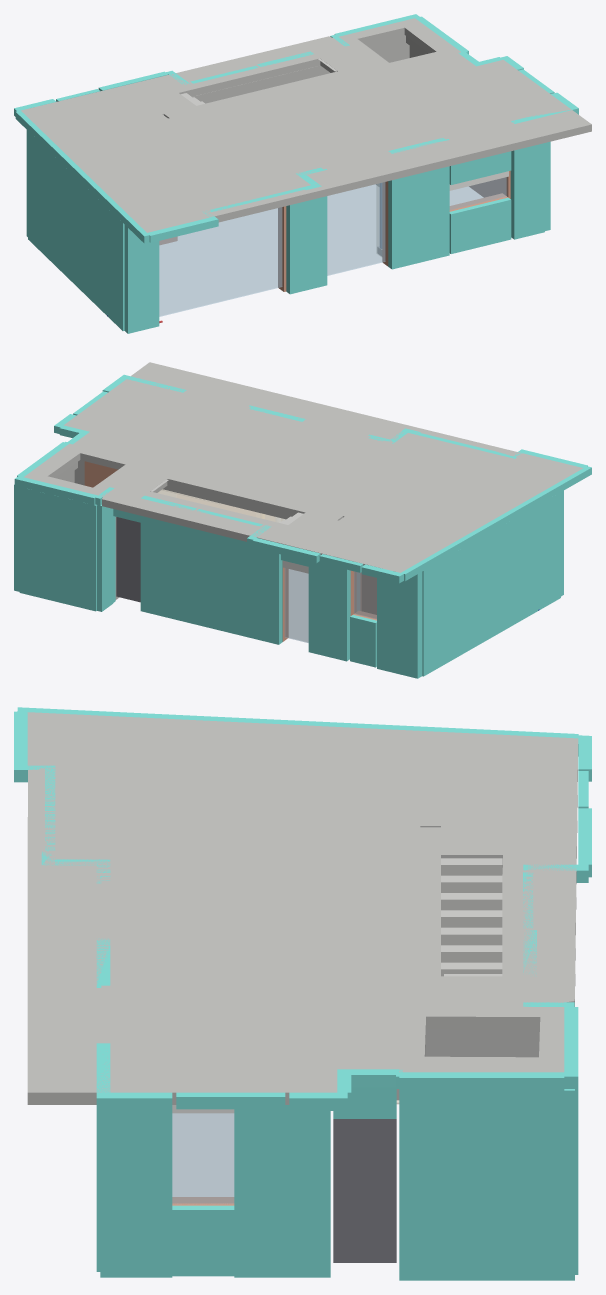
Rendered from HouseEM_AR_GF.glb.
3 renders of one model, top to bottom at view 1: azimuth 30°, elevation 25°; view 2: azimuth 150°, elevation 25°; view 3: azimuth 270°, elevation 25°, orthographic. The views are drawn at different scales.
Visible parts, largest first — view 1: F1-SB01, GF-ET12, GF-EO06, GF-ET07, GF-EO05, GF-ET09, GF-ET13, GF-ET05, GF-EO04-SILL-ET, F1-ET06, GF-BEAM05, GF-EO04-HEAD-ET (+6 smaller); view 2: F1-SB01, GF-ET12, GF-ET08, GF-ET02, GF-ET11, GF-ET10, F1-ET06, GF-ET03, GF-AD01, GF-EO02, GF-EO01-SILL-ET, GF-EO01 (+10 smaller); view 3: F1-SB01, GF-ET01, GF-ET04, GF-ET06, GF-AD02, GF-ST01, GF-EO03, GF-EO03-SILL-ET, F1-ET13, F1-ET06, GF-COL06, F1-EO04-SILL-ET (+12 smaller).
Boxes of the visible parts, box(x1,y1,x2,y2) form: F1-SB01: box(21, 18, 591, 232); GF-ET12: box(28, 131, 124, 330); GF-EO06: box(159, 207, 282, 316); GF-ET07: box(388, 166, 449, 269); GF-EO05: box(327, 182, 385, 275); GF-ET09: box(286, 196, 327, 294); GF-ET13: box(124, 225, 159, 333); GF-ET05: box(510, 143, 544, 239); GF-EO04-SILL-ET: box(449, 197, 511, 253); F1-ET06: box(15, 110, 149, 243); GF-BEAM05: box(192, 65, 329, 103); GF-EO04-HEAD-ET: box(449, 151, 511, 184); F1-SB01: box(24, 362, 583, 572); GF-ET12: box(423, 492, 560, 676); GF-ET08: box(140, 516, 282, 644); GF-ET02: box(19, 487, 96, 611); GF-ET11: box(377, 571, 423, 678); GF-ET10: box(308, 561, 350, 661); F1-ET06: box(401, 466, 591, 580); GF-ET03: box(96, 504, 115, 611); GF-AD01: box(116, 517, 140, 602); GF-EO02: box(284, 568, 308, 642); GF-EO01-SILL-ET: box(350, 615, 376, 667); GF-EO01: box(354, 571, 376, 619); F1-SB01: box(27, 712, 578, 1104); GF-ET01: box(399, 1089, 574, 1280); GF-ET04: box(234, 1105, 330, 1277); GF-ET06: box(100, 1111, 172, 1277); GF-AD02: box(333, 1119, 396, 1262); GF-ST01: box(441, 858, 502, 976); GF-EO03: box(172, 1113, 234, 1204); GF-EO03-SILL-ET: box(172, 1205, 234, 1276); F1-ET13: box(402, 1072, 564, 1090); F1-ET06: box(17, 707, 578, 738); GF-COL06: box(425, 1029, 502, 1056); F1-EO04-SILL-ET: box(176, 1092, 285, 1109).
Size of the model in its own units: 13.45 by 3.25 by 8.4.
